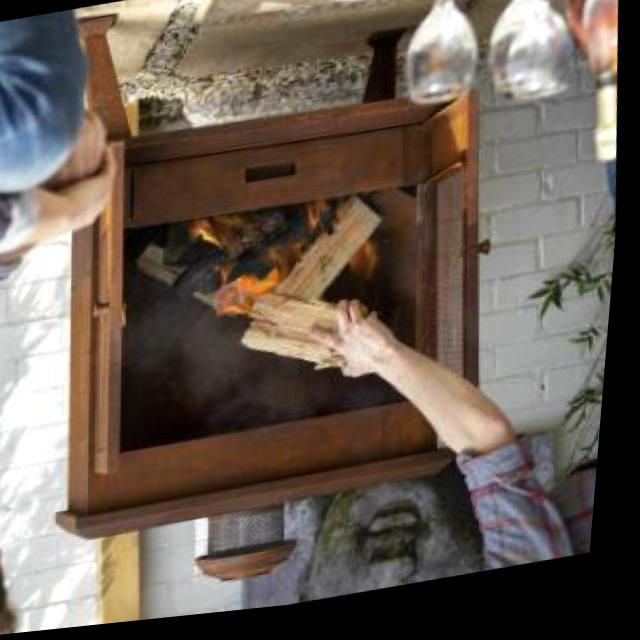fire: (180, 192, 374, 332)
